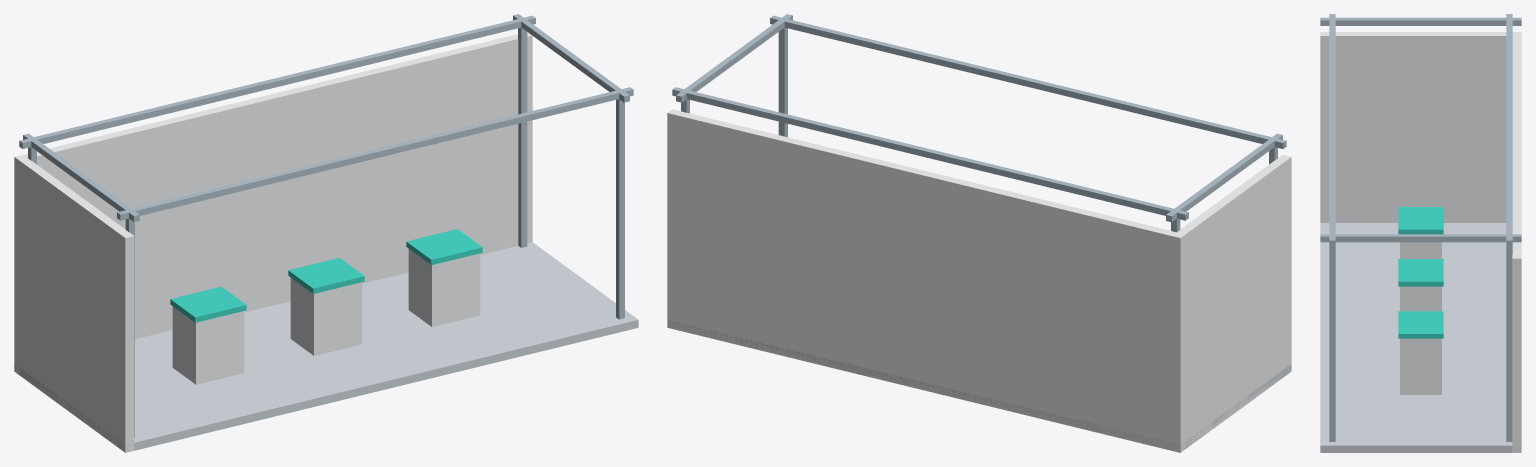
3 renders of one model, left to right at view 1: azimuth 30°, elevation 25°; view 2: azimuth 150°, elevation 25°; view 3: azimuth 270°, elevation 25°, orthographic. The views are drawn at different scales.
Visible parts, largest first — view 1: Exhibition Booth Concept; view 2: Exhibition Booth Concept; view 3: Exhibition Booth Concept.
Part boxes in pixels (x1,y1,x2,y2): Exhibition Booth Concept: (14,14,638,452); Exhibition Booth Concept: (667,14,1291,452); Exhibition Booth Concept: (1320,14,1521,452).
Size of the model in its own units: 8 by 3.49 by 3.
